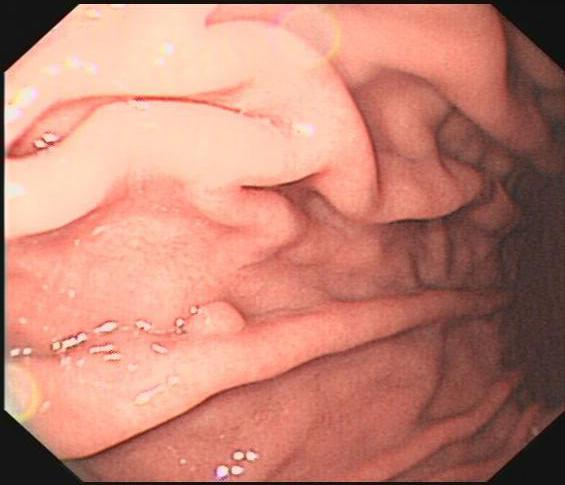Polyp: (186, 285, 254, 340)
